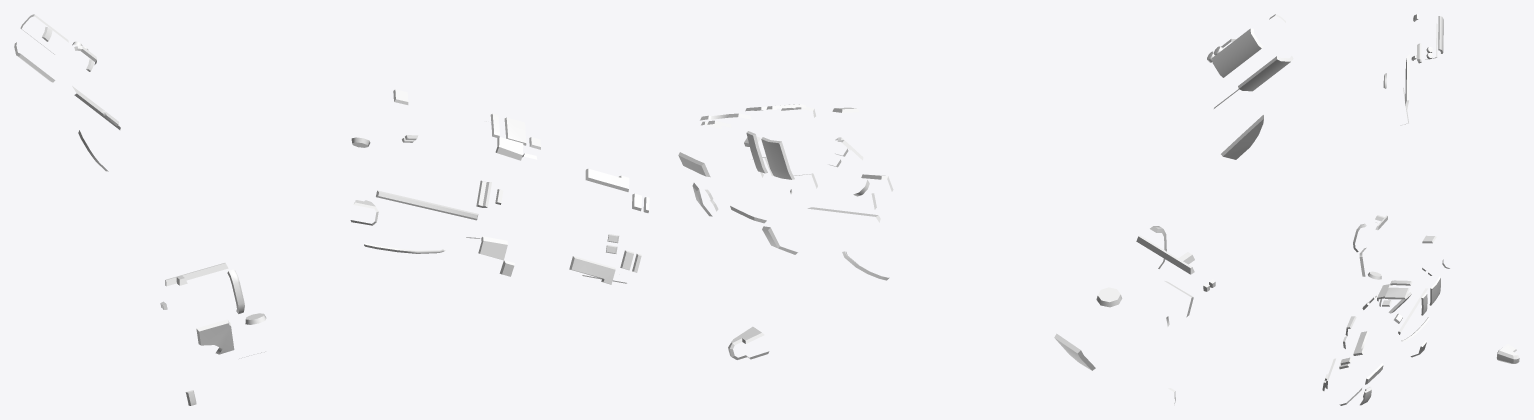
Rendered from ama_ship_wreck_02_03.glb.
The picture shows the model from 3 angles, left to right: view 1: azimuth 30°, elevation 25°; view 2: azimuth 150°, elevation 25°; view 3: azimuth 270°, elevation 25°; orthographic projection. The views are drawn at different scales.
Visible parts, largest first — view 1: ama_ship_wreck_02_03_LOD0; view 2: ama_ship_wreck_02_03_LOD0; view 3: ama_ship_wreck_02_03_LOD0.
Boxes of the visible parts, box(x1,y1,x2,y2) form: ama_ship_wreck_02_03_LOD0: box(14, 14, 649, 405); ama_ship_wreck_02_03_LOD0: box(678, 14, 1293, 403); ama_ship_wreck_02_03_LOD0: box(1322, 14, 1519, 405).
Size of what is drawn, in the model's own units: 8.83 by 5.66 by 3.97.
Materials: 2 (2 with a texture image).
